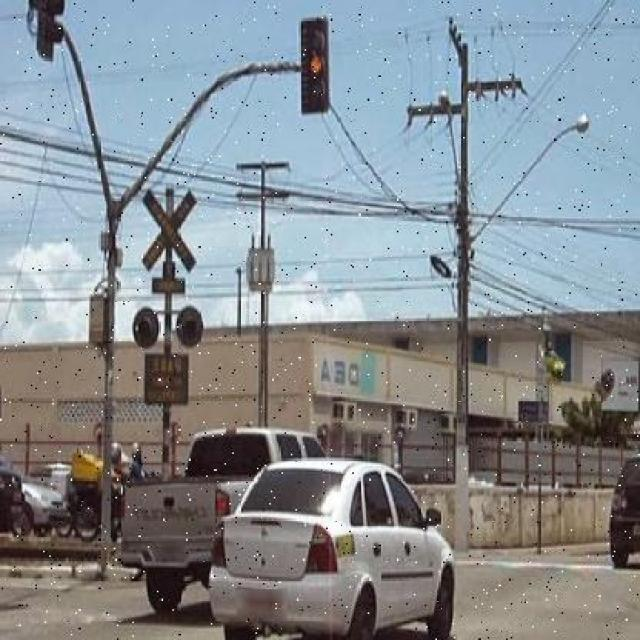yellow-light: (277, 6, 378, 113)
